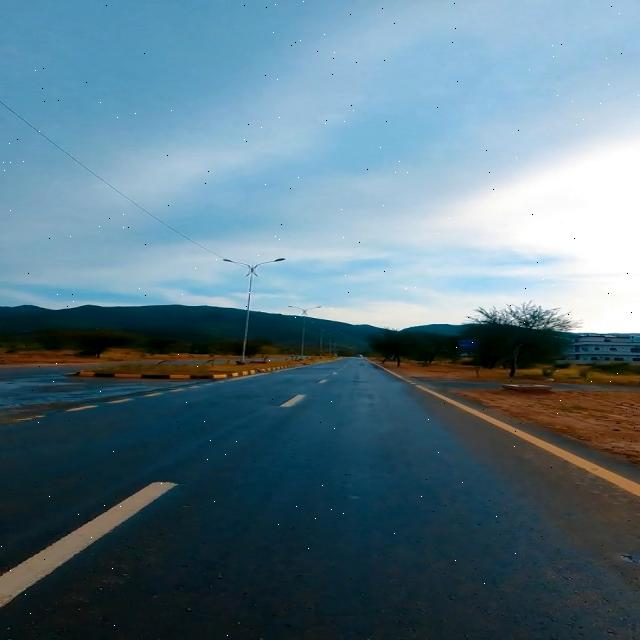lane: (369, 360, 640, 496), (1, 482, 178, 606)
road: (2, 358, 638, 639), (369, 360, 640, 496)
